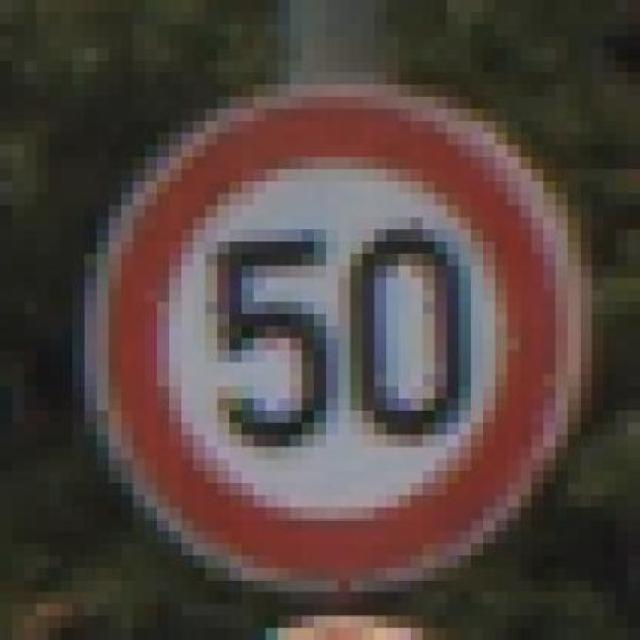forb_speed_over_50: (92, 89, 575, 585)
